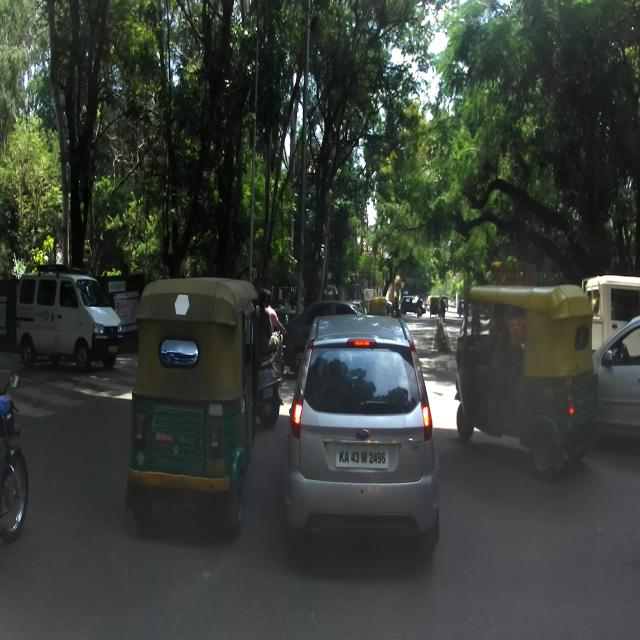auto ahead at: (128, 281, 259, 527), (452, 281, 596, 476)
car ahead at: (288, 309, 440, 557), (11, 270, 124, 378)
